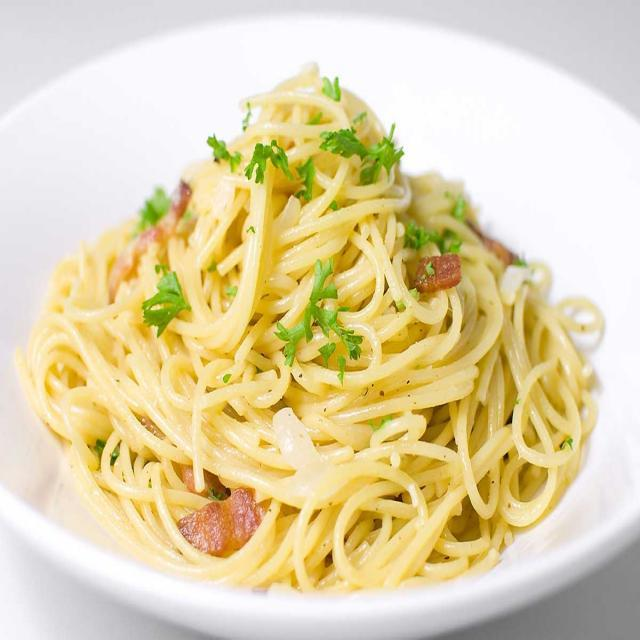Pasta with carbonara sauce: (33, 24, 640, 627)
